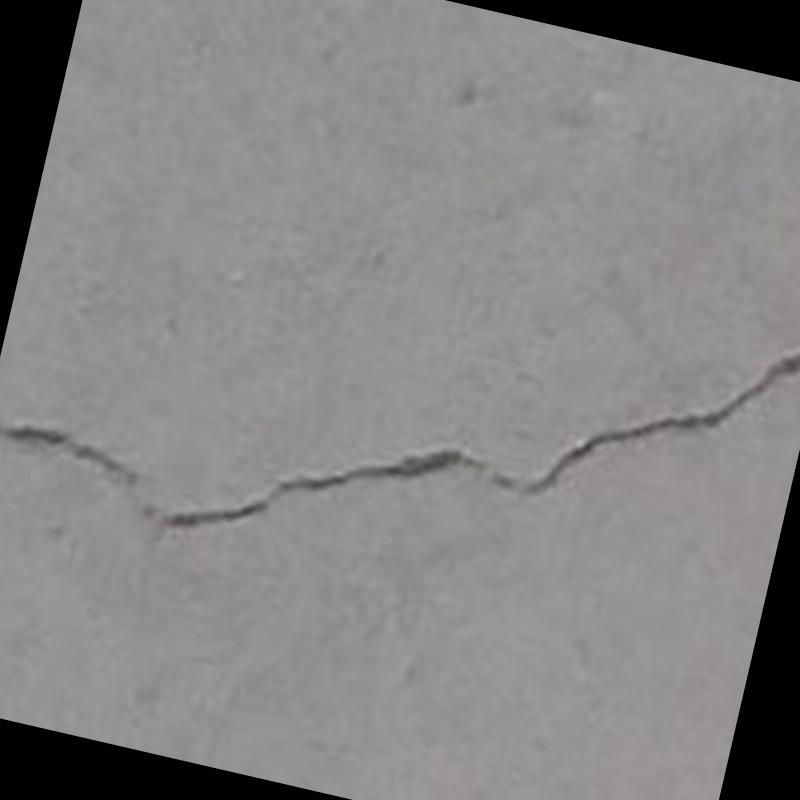pothole: (0, 347, 800, 532)
